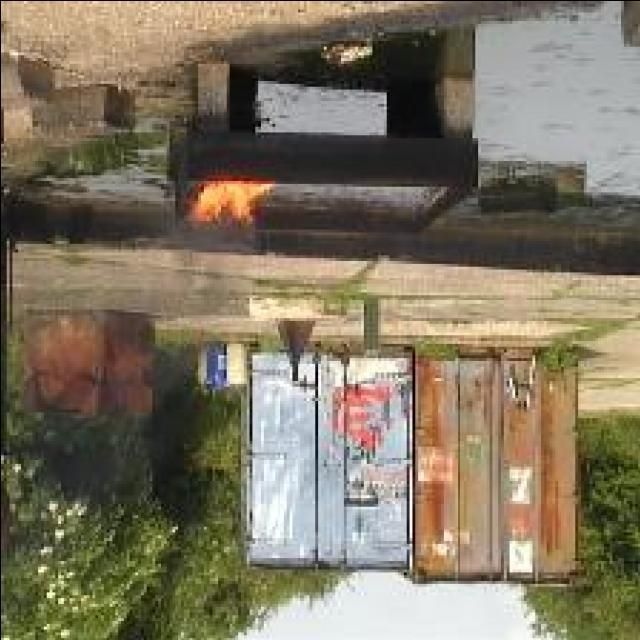Fire: (186, 180, 274, 226)
